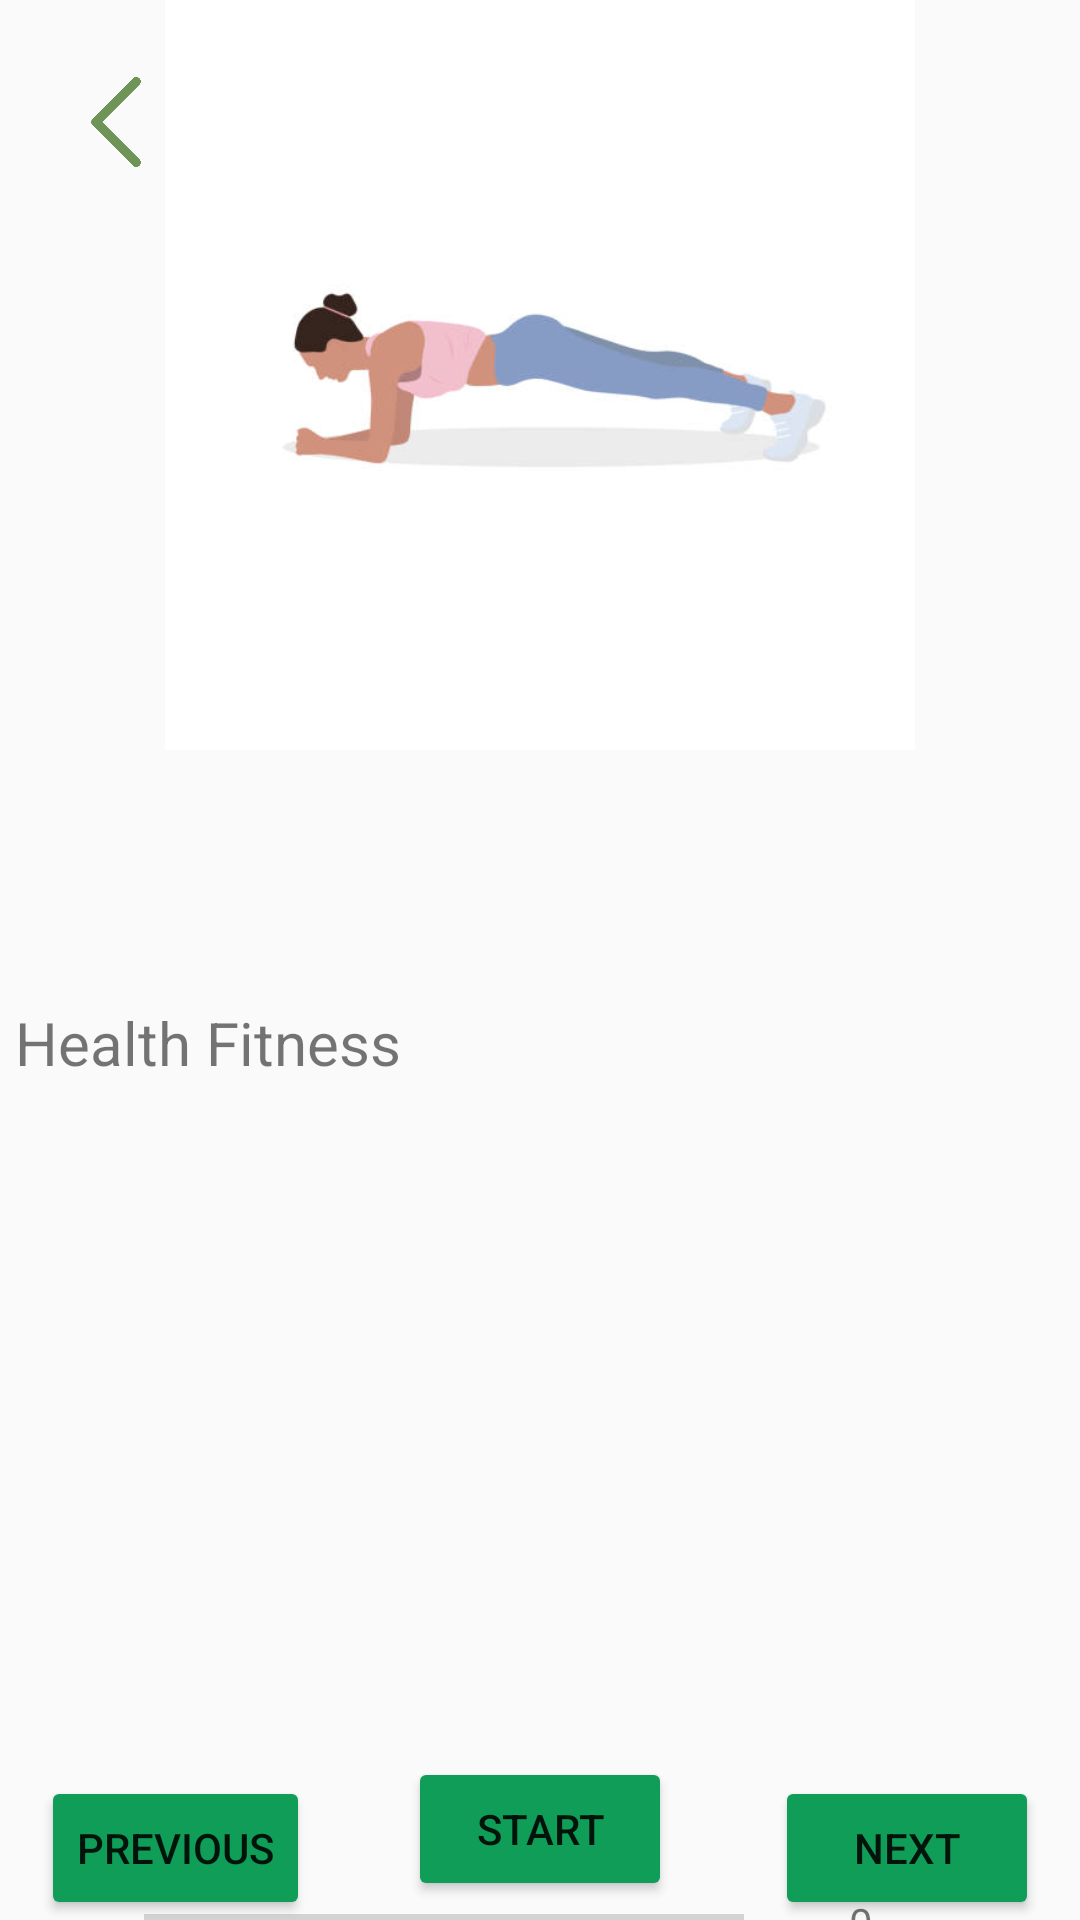

Named icons in this screenshot (1080×1920) and their bounding boxes, (x1, y1, x2, y2):
back: (91, 77, 141, 167)
